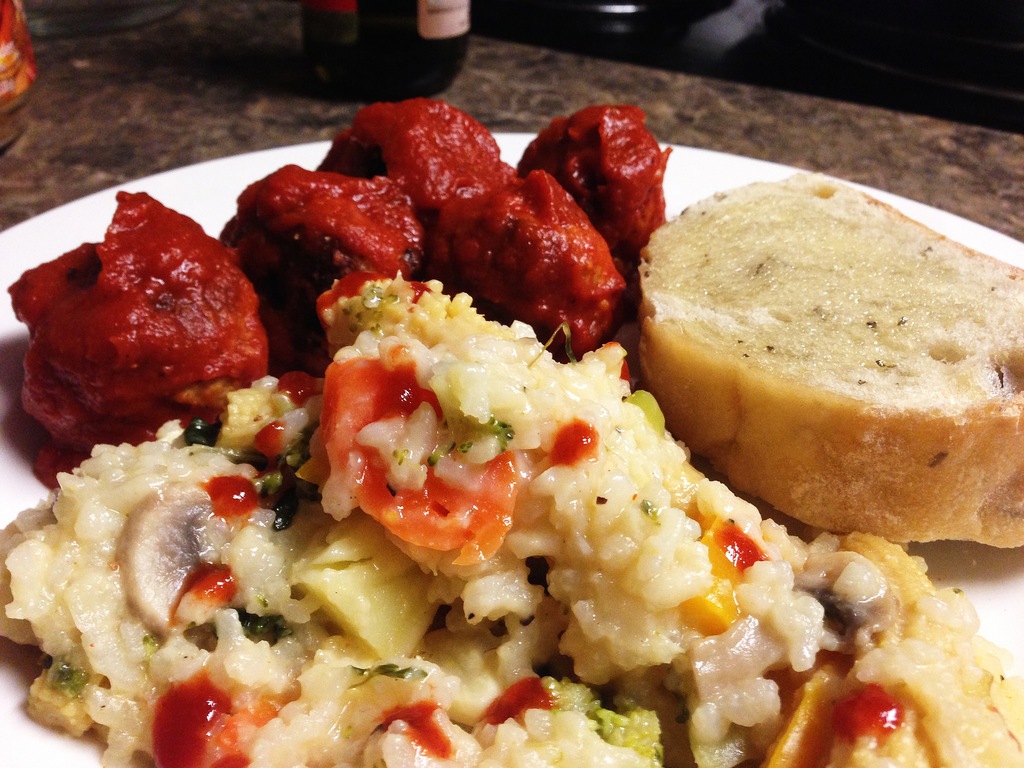slice of bread: (640, 155, 1020, 546)
